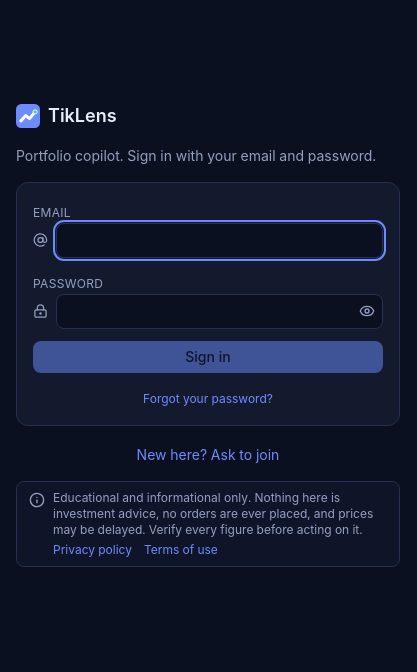
asking to join (D156, D185, D187) › sends the email, the password, this browser's zone and the page's language
Click the button "New here? Ask to join": click(208, 454) [16,444,400,464]
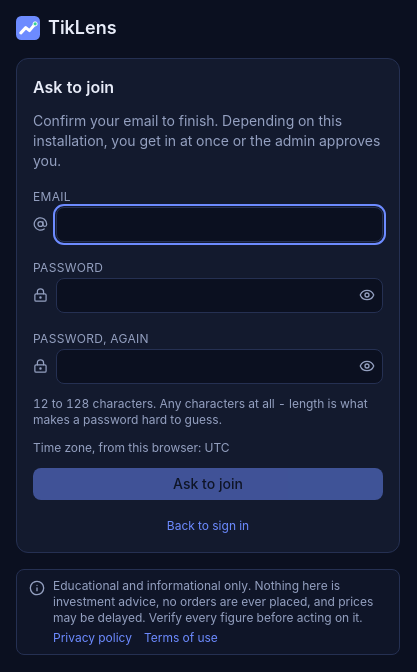
Check: the text "UTC" is shown, box [204,440,230,454]
In the field labelled "Email": (219, 224) [56,206,383,242], type " noa@example.com "
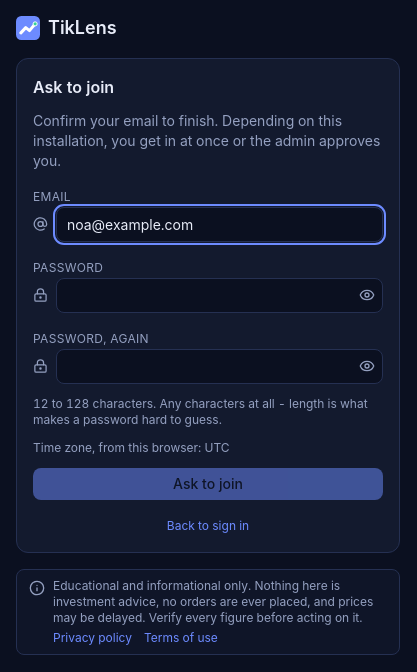
In the password field labelled "Password": (220, 295) [56,278,383,312], type "a long enough passphrase"
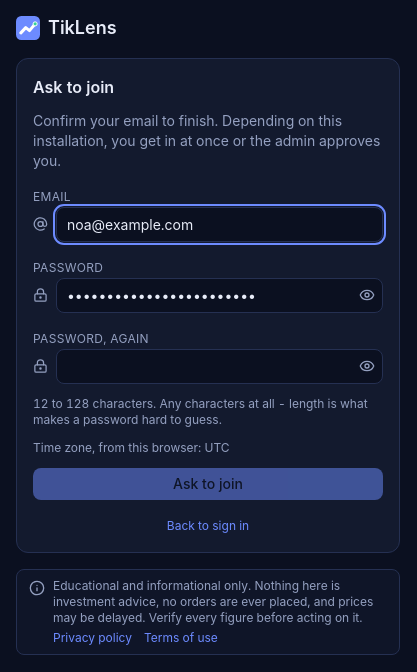
In the password field labelled "Password, again": (220, 366) [56,348,383,384], type "a long enough passphrase"
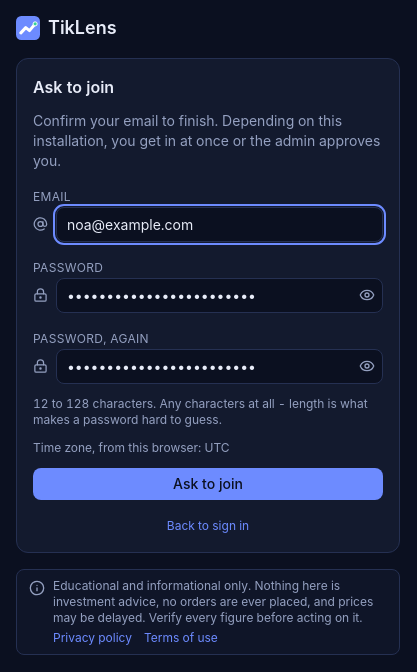
Click the button "Ask to join": click(208, 484) [33,468,383,500]
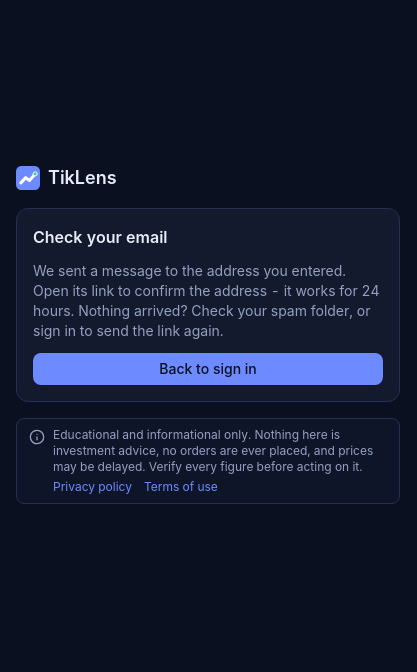
Check: the heading "Check your email" is shown, box [33,227,168,247]
Check: the text "Open its link to confirm the address" is shown, box [33,262,380,339]
